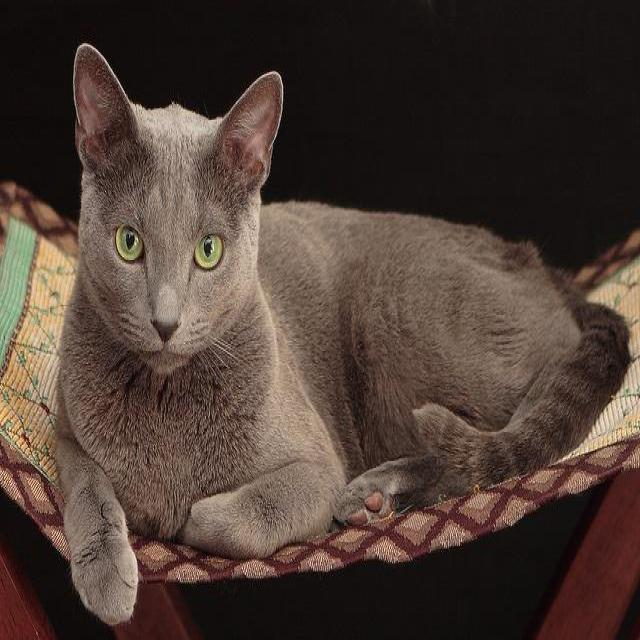Cat: (69, 38, 288, 380)
